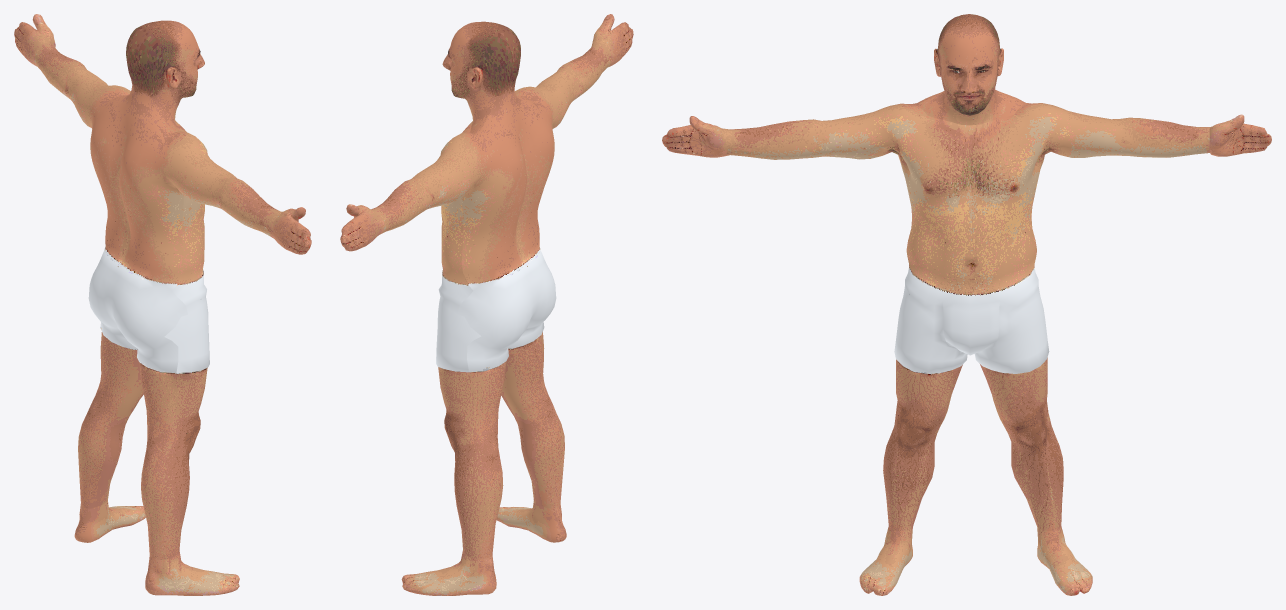
File: Character.glb
3 views of the same model, side by side, from view 1: azimuth 30°, elevation 25°; view 2: azimuth 150°, elevation 25°; view 3: azimuth 270°, elevation 25° (orthographic). The views are drawn at different scales.
Visible parts, largest first — view 1: BaseCharacter; view 2: BaseCharacter; view 3: BaseCharacter.
Part boxes in pixels (x1=…): BaseCharacter: x1=14, y1=14, x2=311, y2=595; BaseCharacter: x1=340, y1=14, x2=633, y2=595; BaseCharacter: x1=662, y1=14, x2=1271, y2=595.
Size of the model in its own units: 0.5664 by 3 by 2.95.
1 material, 1 textured.
